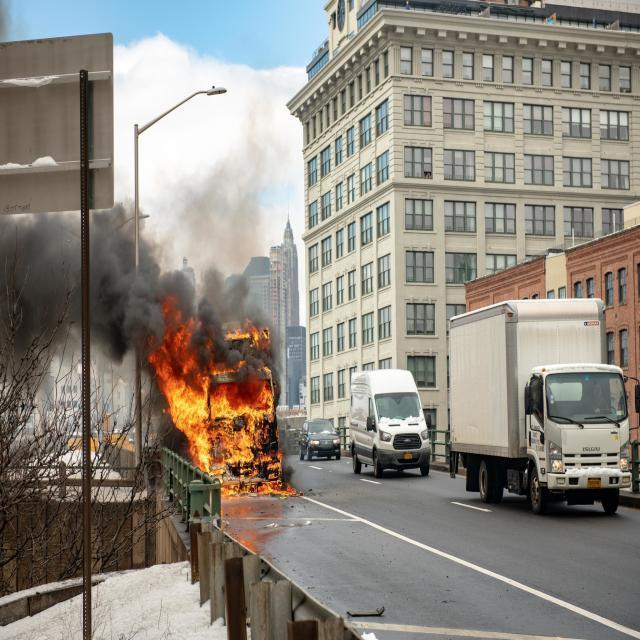Fire: (152, 290, 288, 500)
Smoke: (0, 186, 154, 408), (178, 137, 271, 293)
